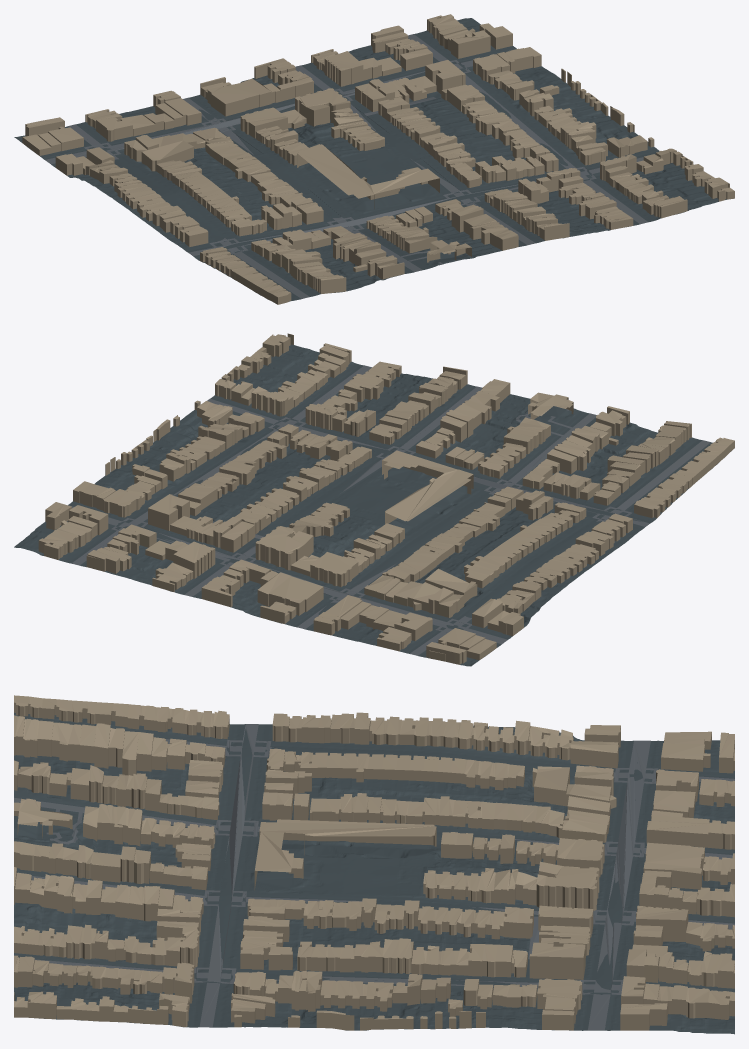
Rendered from epsg26910-1417-10888.lod0.glb.
The picture shows the model from 3 angles, top to bottom: view 1: azimuth 30°, elevation 25°; view 2: azimuth 150°, elevation 25°; view 3: azimuth 270°, elevation 25°; orthographic projection. The views are drawn at different scales.
Parts seen in each view (by area): view 1: epsg26910-1417-10888-lod0; view 2: epsg26910-1417-10888-lod0; view 3: epsg26910-1417-10888-lod0.
Boxes of the visible parts, bbox=[...] form: epsg26910-1417-10888-lod0: bbox=[14, 14, 734, 304]; epsg26910-1417-10888-lod0: bbox=[14, 333, 734, 666]; epsg26910-1417-10888-lod0: bbox=[14, 695, 734, 1034].
Size of the model in its own units: 384 by 34.25 by 384.
